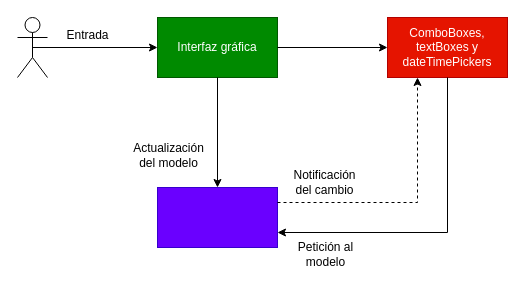
This 525x292 diagram has some shape labels left out. The centre of each missing label's shape, as x and y in pixels:
Actor: point 32,47
C# y base de datos: point 217,217
